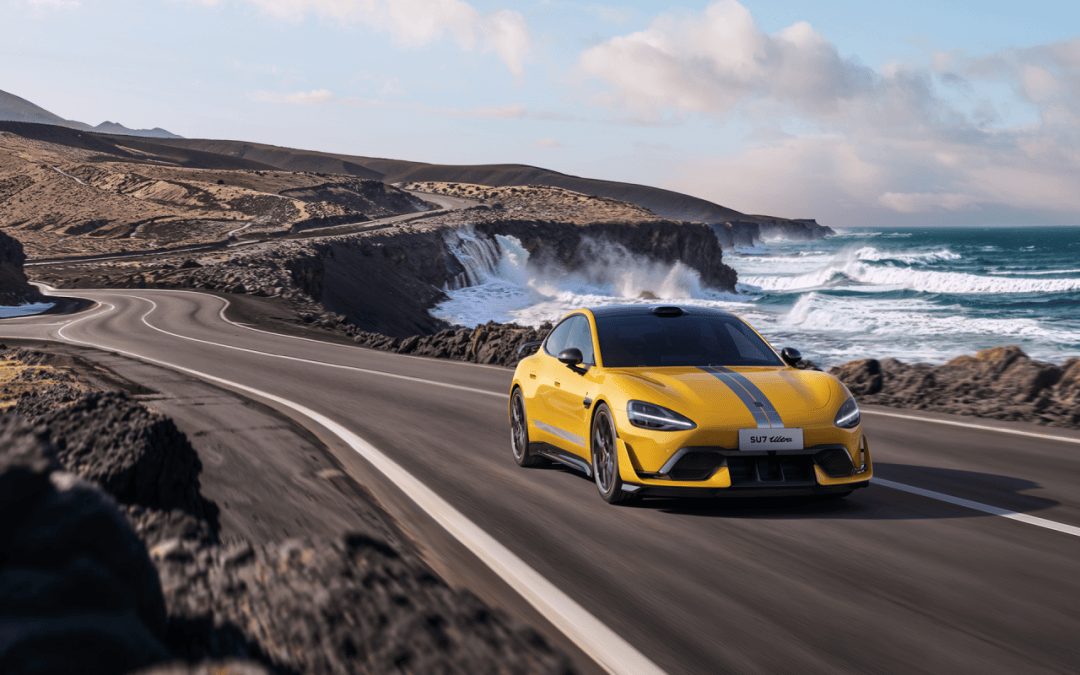su7: (499, 296, 871, 497)
